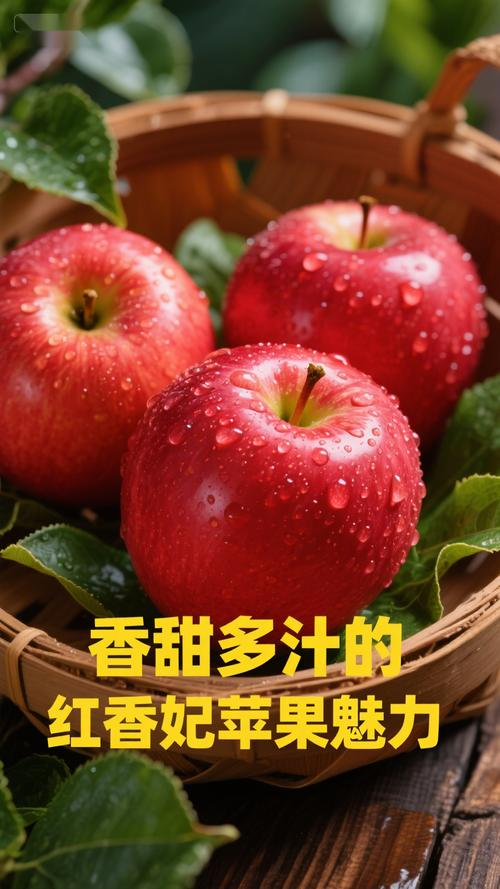ripe: (120, 338, 433, 651), (206, 181, 497, 438), (0, 209, 213, 508)
